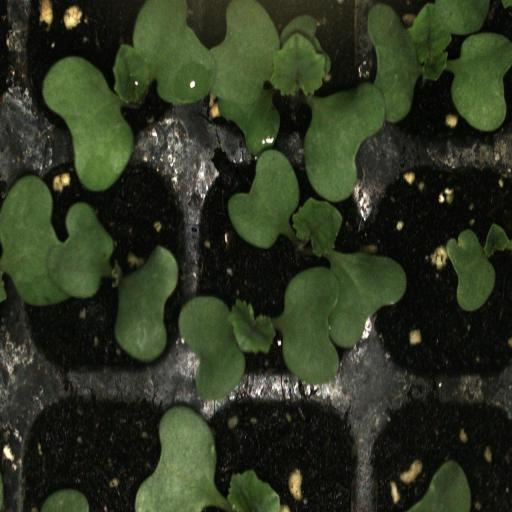seedling: (16, 154, 188, 379), (18, 0, 196, 157)
twoseedling: (189, 158, 370, 387), (190, 0, 369, 158)
